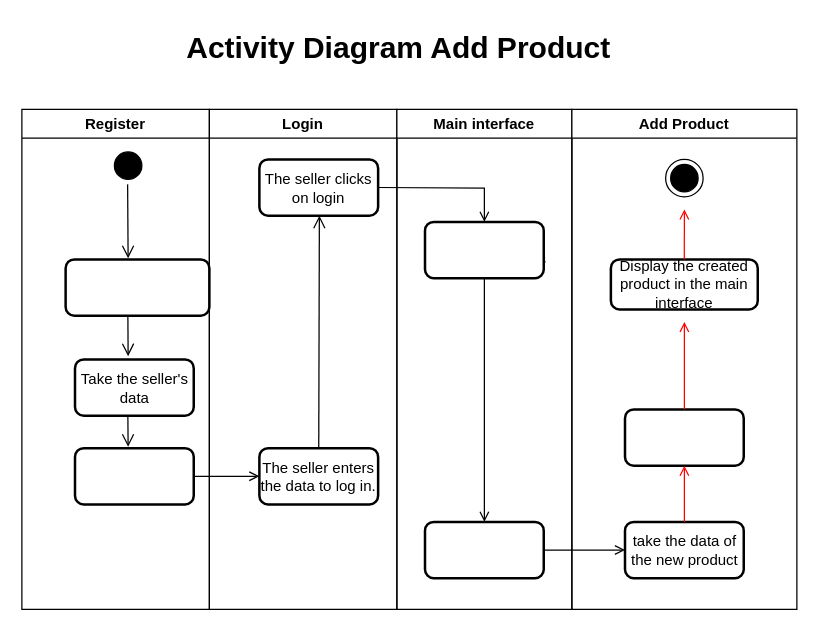
Image size: 819x631. Some labels were removed from this diagram. Here are the shapes that lost their labels. From the top down, the centre of each, then its label:
[483,249]: Show the main interface
[137,287]: The user chooses to register as a seller.
[683,437]: Press the publish product button
[133,475]: The seller clicks on register
[483,549]: Press the add product button
